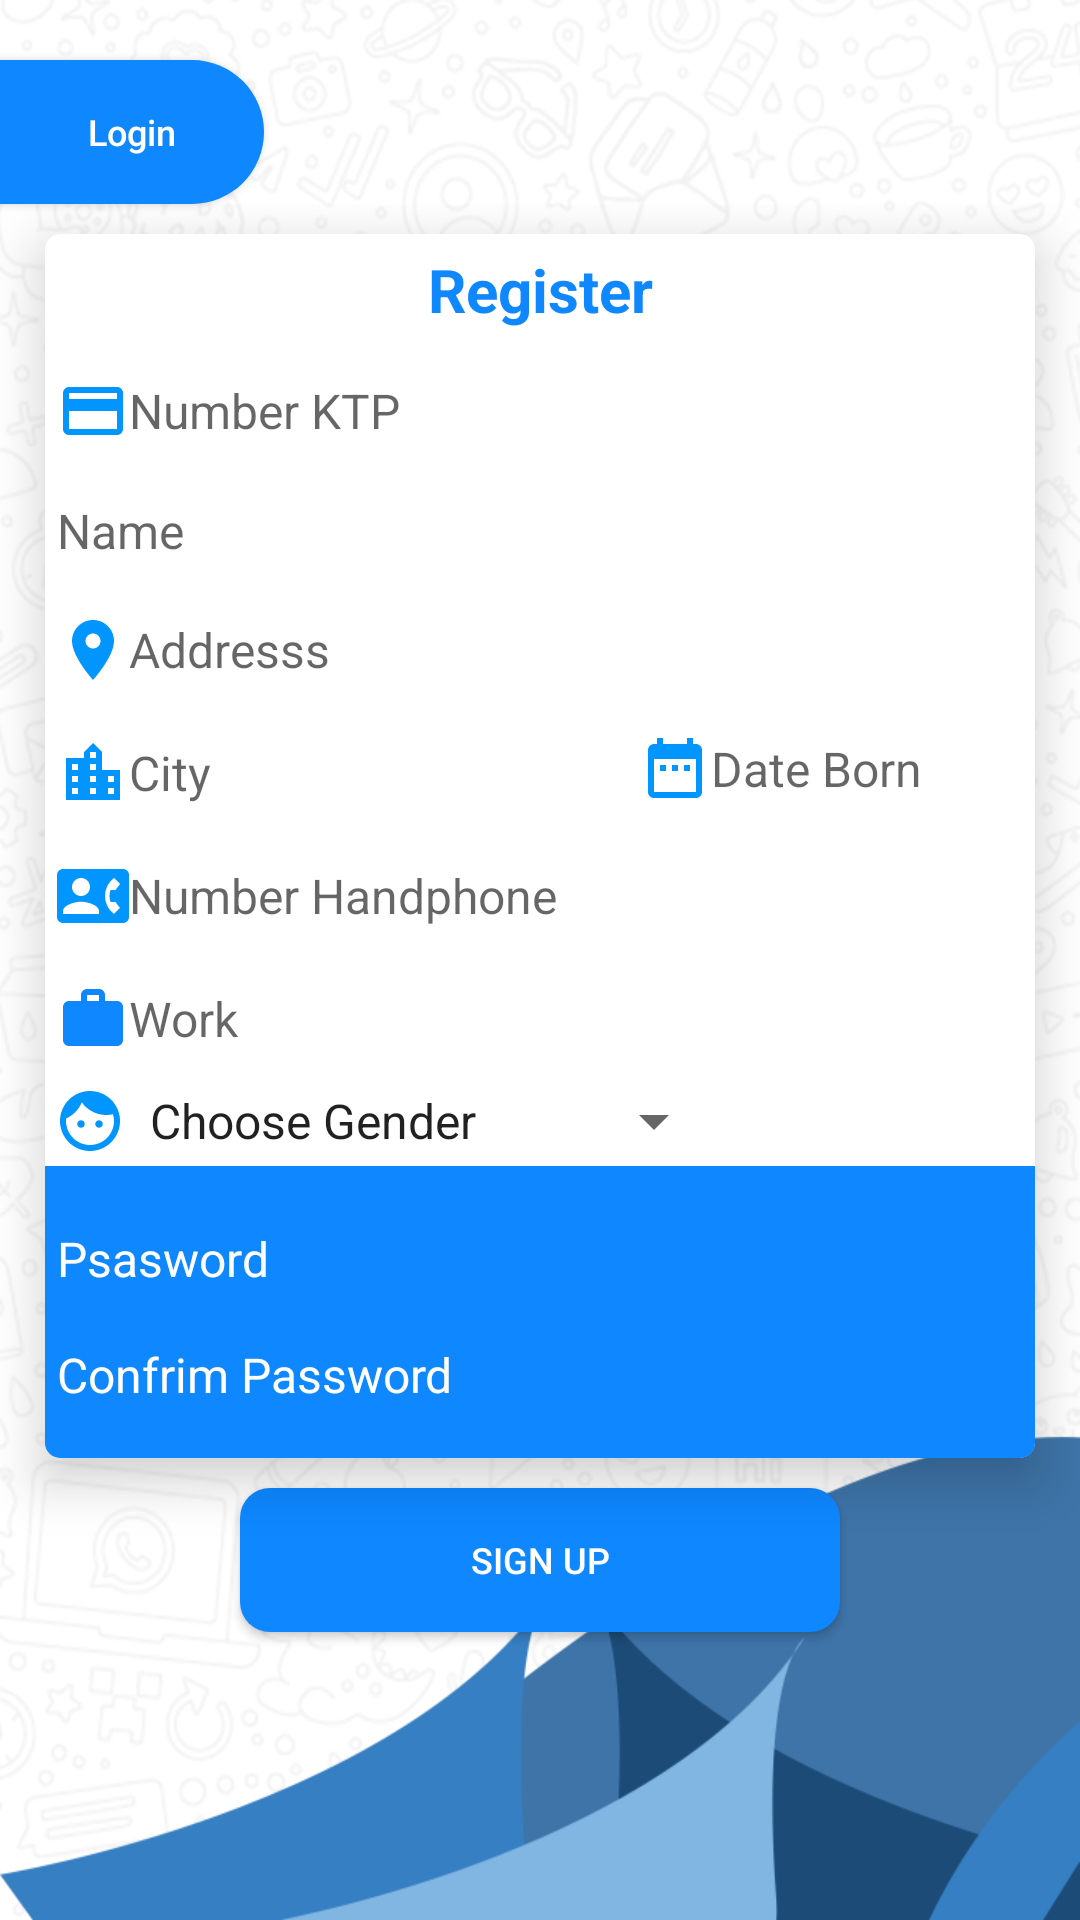

Named icons in this screenshot (1080x1920) and their bounding boxes, (x1, y1, x2, y2):
face: (60, 1091, 120, 1151)
